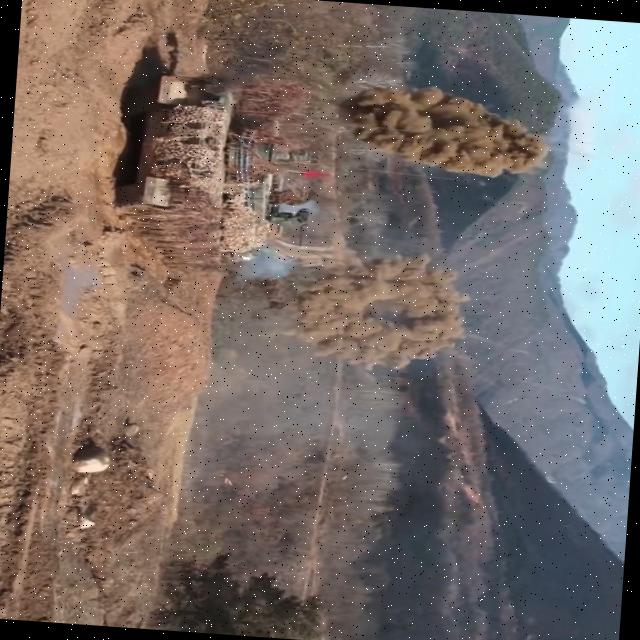korea tank: (107, 69, 330, 313)
